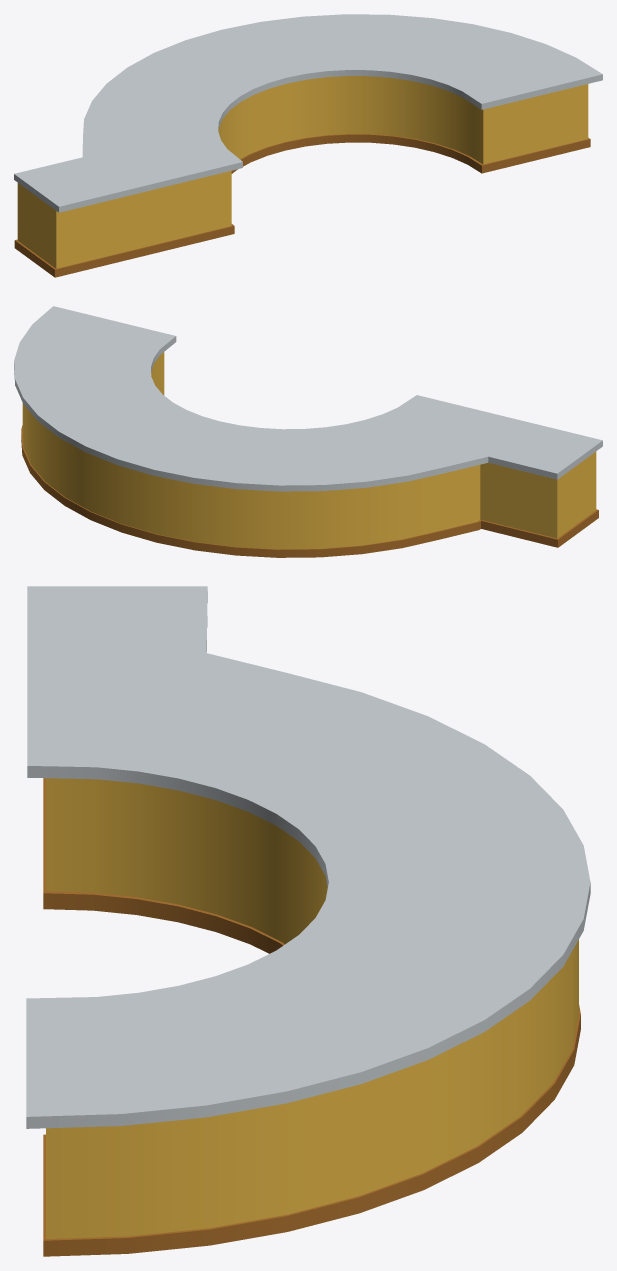
Rendered from bar.obj.
3 renders of one model, top to bottom at view 1: azimuth 30°, elevation 25°; view 2: azimuth 150°, elevation 25°; view 3: azimuth 270°, elevation 25°, orthographic. The views are drawn at different scales.
Visible parts, largest first — view 1: polySurface2, barra1, barraab1; view 2: polySurface2, barra1, barraab1; view 3: polySurface2, barra1, barraab1.
Boxes of the visible parts, x1=… form: polySurface2: x1=14, y1=14, x2=602, y2=212; barra1: x1=17, y1=76, x2=588, y2=268; barraab1: x1=14, y1=134, x2=590, y2=277; polySurface2: x1=14, y1=306, x2=602, y2=491; barra1: x1=22, y1=352, x2=596, y2=549; barraab1: x1=21, y1=425, x2=598, y2=557; polySurface2: x1=26, y1=586, x2=590, y2=1128; barra1: x1=46, y1=778, x2=578, y2=1238; barraab1: x1=43, y1=778, x2=580, y2=1256.
Bounding box in the file's own units: 2.85 × 0.37 × 1.28.
